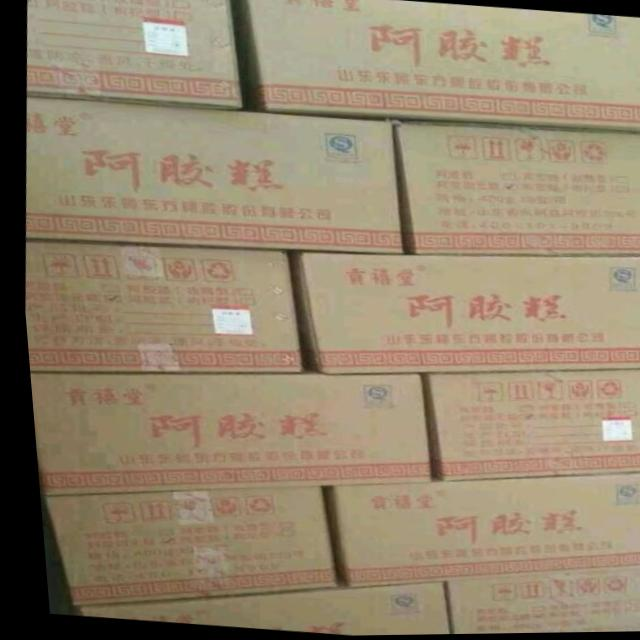box: (21, 99, 399, 256), (241, 0, 640, 135), (24, 371, 422, 494), (290, 255, 640, 376), (320, 472, 640, 589), (21, 238, 296, 374), (40, 490, 335, 606), (397, 121, 640, 254), (421, 373, 640, 483), (30, 0, 238, 107), (63, 582, 441, 636), (437, 567, 640, 635)
